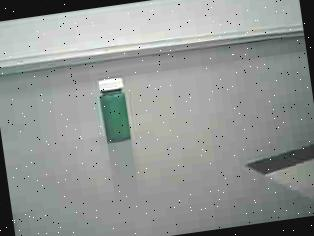Bottle C: (90, 72, 144, 155)
